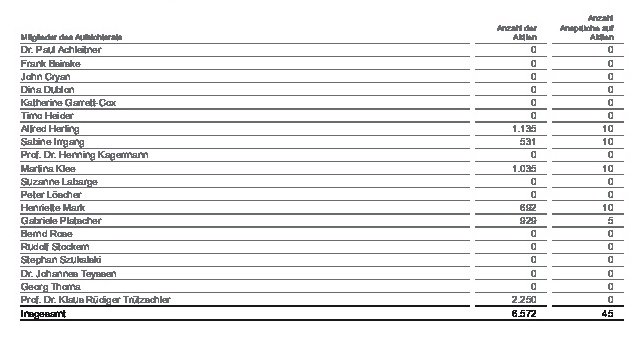table: (0, 0, 643, 338)
